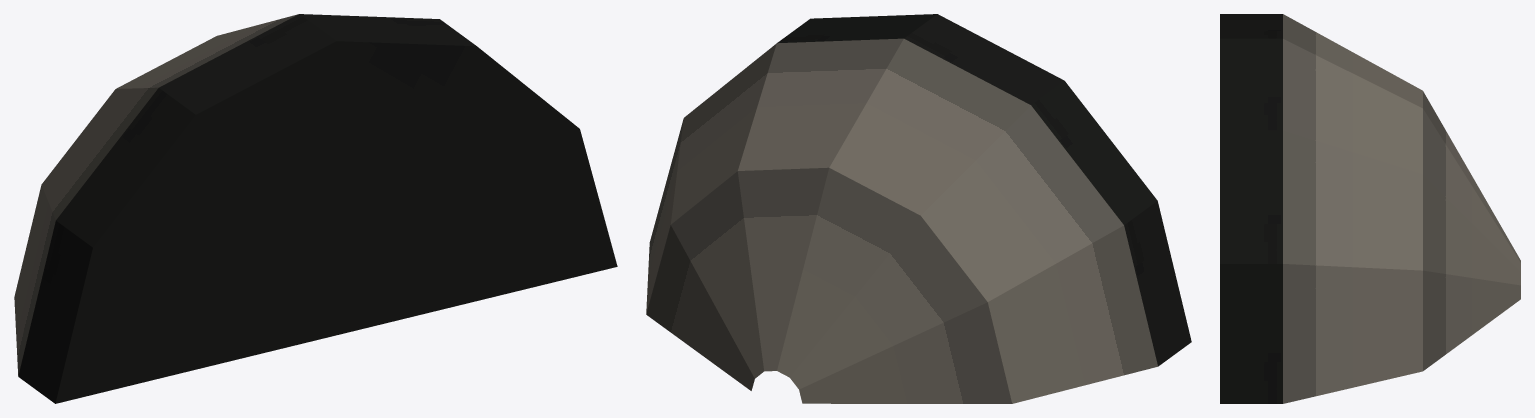
The model's file is pz_native_lighting_outdoor_01_34_wall_lamp.obj.
3 views of the same model, side by side, from view 1: azimuth 30°, elevation 25°; view 2: azimuth 150°, elevation 25°; view 3: azimuth 270°, elevation 25° (orthographic). The views are drawn at different scales.
Parts seen in each view (by area): view 1: pz_native_lighting_outdoor_01_34_wall_lamp; view 2: pz_native_lighting_outdoor_01_34_wall_lamp; view 3: pz_native_lighting_outdoor_01_34_wall_lamp.
Boxes of the visible parts, box(x1,y1,x2,y2) form: pz_native_lighting_outdoor_01_34_wall_lamp: box(14, 14, 617, 403); pz_native_lighting_outdoor_01_34_wall_lamp: box(646, 14, 1191, 403); pz_native_lighting_outdoor_01_34_wall_lamp: box(1220, 14, 1520, 403).
Size of the model in its own units: 0.4094 by 0.2047 by 0.224.
Materials: 1 (1 with a texture image).
